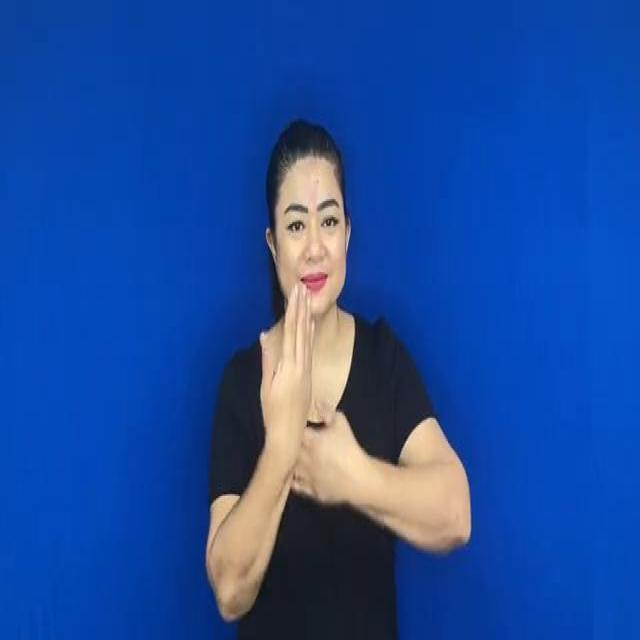bread: (256, 296, 361, 536)
